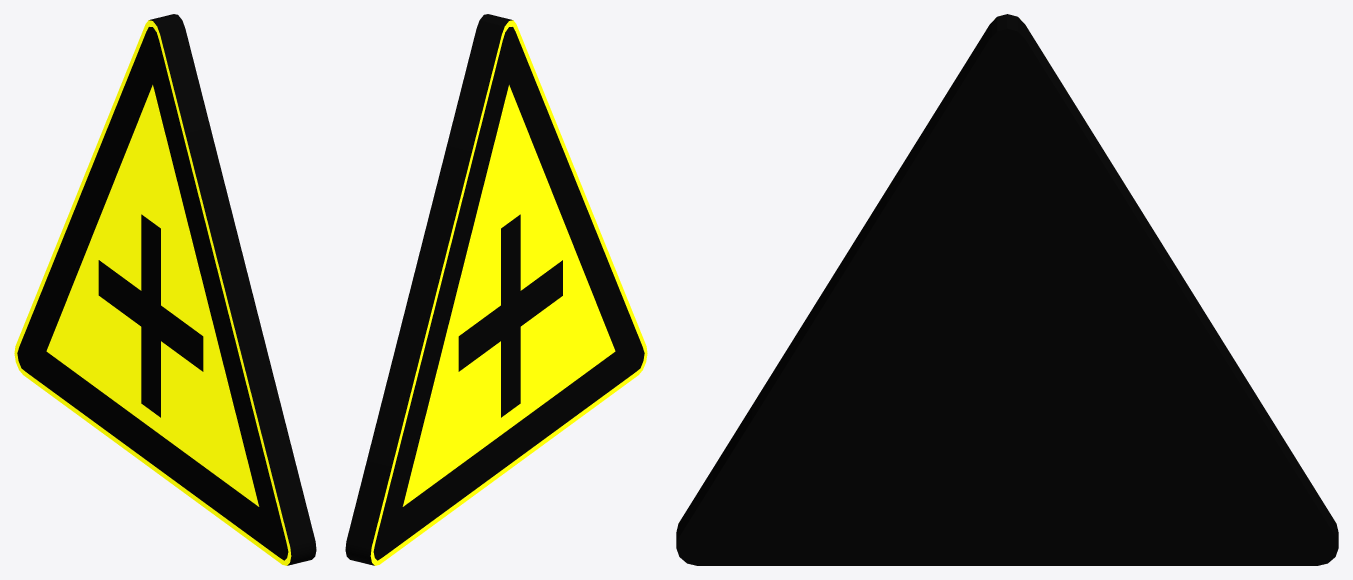
File: Ten_Crossing.glb
3 views of the same model, side by side, from view 1: azimuth 30°, elevation 25°; view 2: azimuth 150°, elevation 25°; view 3: azimuth 270°, elevation 25° (orthographic). The views are drawn at different scales.
Parts seen in each view (by area): view 1: Ten_Crossing; view 2: Ten_Crossing; view 3: Ten_Crossing.
Part boxes in pixels (bbox=[...]): Ten_Crossing: bbox=[14, 14, 316, 565]; Ten_Crossing: bbox=[345, 14, 647, 565]; Ten_Crossing: bbox=[676, 14, 1338, 565].
Size of the model in its own units: 0.0643 by 1.02 by 1.14.
